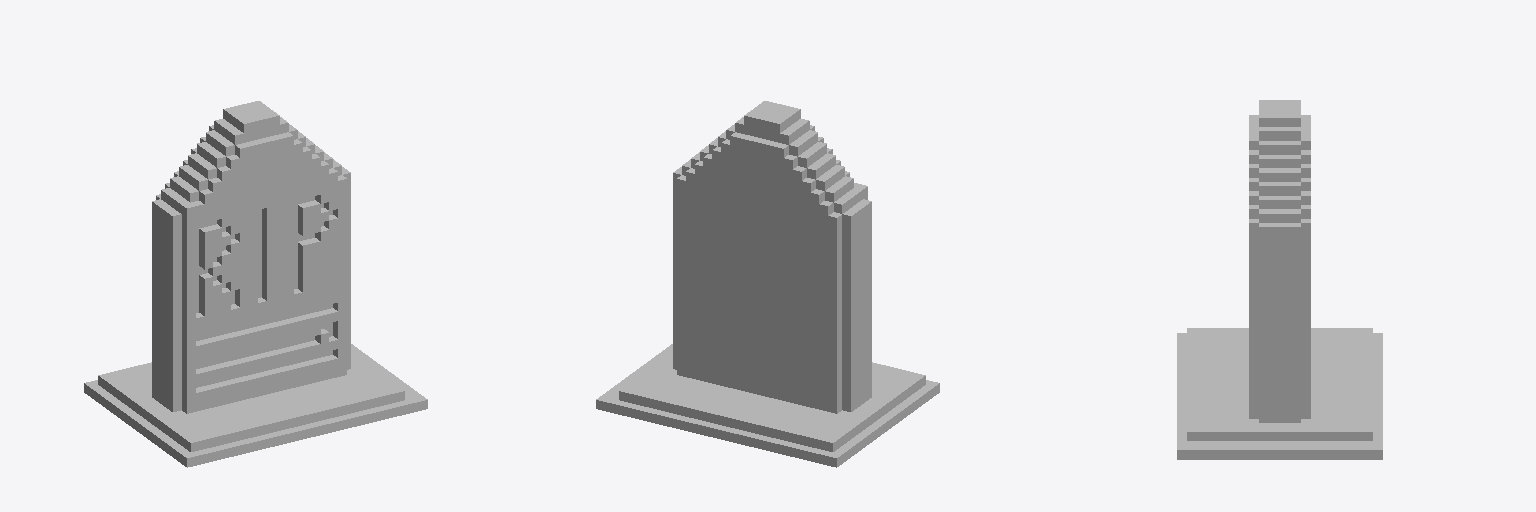
File: Tombstone.obj
3 renders of one model, left to right at view 1: azimuth 30°, elevation 25°; view 2: azimuth 150°, elevation 25°; view 3: azimuth 270°, elevation 25°, orthographic.
Parts seen in each view (by area): view 1: object 1; view 2: object 1; view 3: object 1.
Part boxes in pixels (x1,y1,x2,y2): object 1: (84, 101, 427, 467); object 1: (596, 101, 939, 467); object 1: (1177, 100, 1382, 459).
Size of the model in its own units: 2.7 by 3.1 by 2.